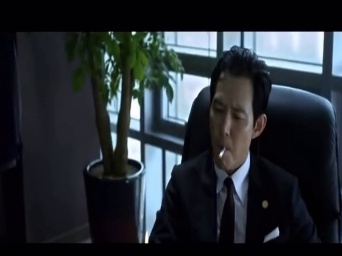smoke: (217, 146, 225, 160)
